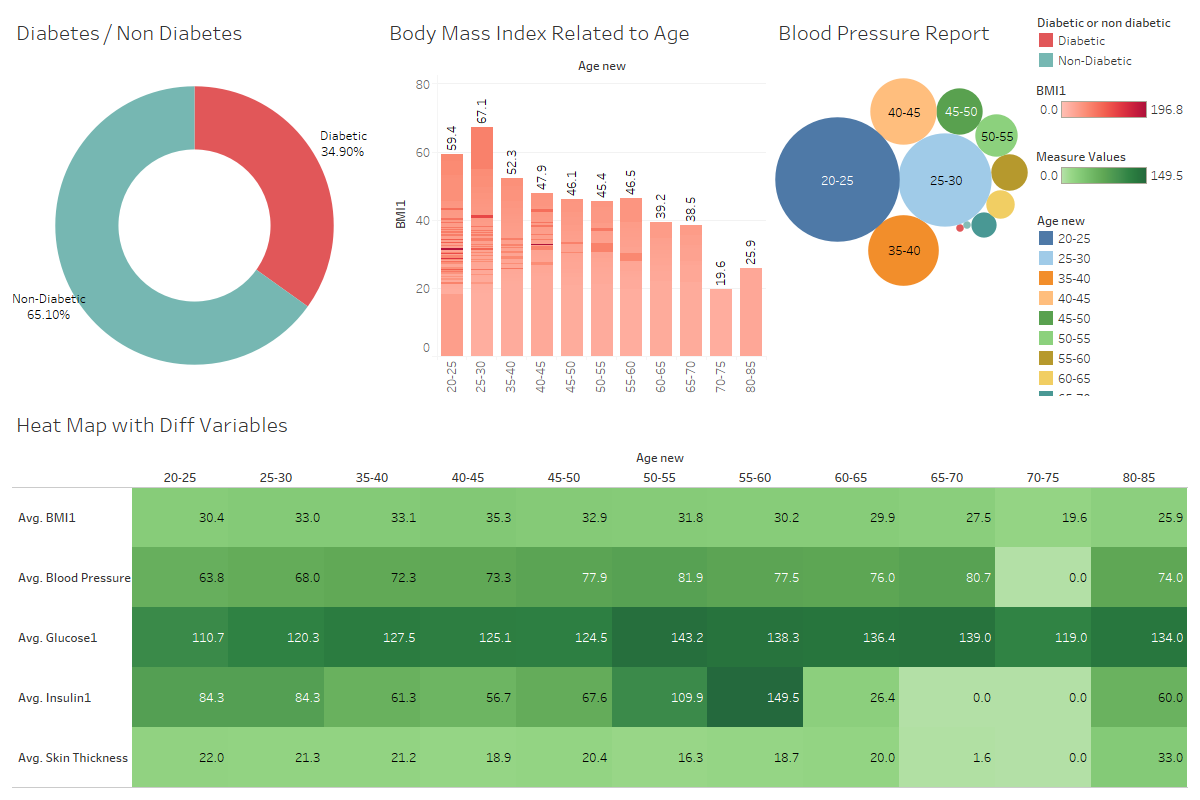

What the dashboard file says about the page in this screenshot:
{"tool":"tableau","page":{"name":"Dashboard 1","canvas":[1200,800],"ordinal":0},"visuals":[{"type":"worksheet","title":"Donut Pie chart","mark":"Pie","rows":["Number of Records","Number of Records"],"box":[8,8,373,392]},{"type":"worksheet","title":"Body Mass to age","mark":"Bar","rows":["BMI"],"cols":["Calculation_79938895863570433"],"box":[381,8,389,392]},{"type":"worksheet","title":"Blood Pressure Report","mark":"Circle","box":[770,8,262,392]},{"type":"legend","title":"Donut Pie chart","param":"[federated.13xtmfo0yp9jc813bo58r11m1r5e].[none:Calculation_1222164350539055104:n","box":[1032,8,160,66]},{"type":"legend","title":"Body Mass to age","param":"[federated.13xtmfo0yp9jc813bo58r11m1r5e].[sum:BMI:qk]","box":[1032,74,160,65]},{"type":"legend","title":"Heat Map with Diff Variables","param":"[federated.13xtmfo0yp9jc813bo58r11m1r5e].[Multiple Values]","box":[1032,139,160,65]},{"type":"legend","title":"Blood Pressure Report","param":"[federated.13xtmfo0yp9jc813bo58r11m1r5e].[none:Calculation_79938895863570433:nk]","box":[1032,204,160,196]},{"type":"worksheet","title":"Heat Map with Diff Variables","mark":"Square","cols":["Calculation_79938895863570433"],"box":[8,400,1184,392]}]}

Visuals, with their boxes in screenshot pixels (x1, y1, x2, y2), scaled from the page's 1200x800 canvas onto the 1200x800 screenshot:
"Donut Pie chart" worksheet (Pie marks): [left=8, top=8, right=381, bottom=400]
"Body Mass to age" worksheet (Bar marks): [left=381, top=8, right=770, bottom=400]
"Blood Pressure Report" worksheet (Circle marks): [left=770, top=8, right=1032, bottom=400]
"Donut Pie chart" legend: [left=1032, top=8, right=1192, bottom=74]
"Body Mass to age" legend: [left=1032, top=74, right=1192, bottom=139]
"Heat Map with Diff Variables" legend: [left=1032, top=139, right=1192, bottom=204]
"Blood Pressure Report" legend: [left=1032, top=204, right=1192, bottom=400]
"Heat Map with Diff Variables" worksheet (Square marks): [left=8, top=400, right=1192, bottom=792]
